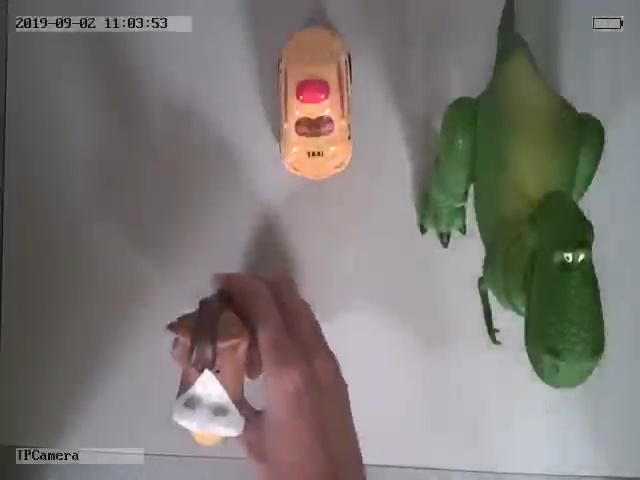car: (273, 20, 356, 182)
rex: (417, 8, 606, 392)
